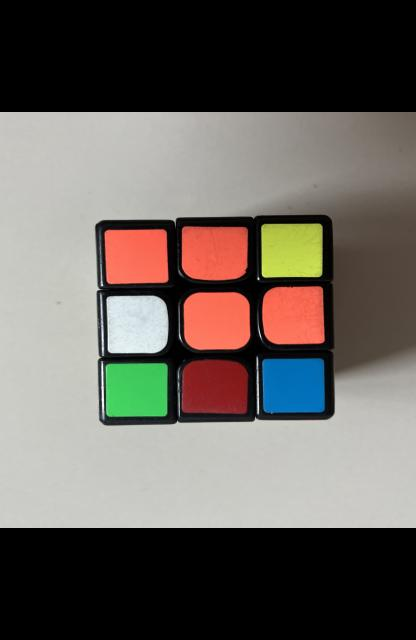Blue: (262, 358, 324, 413)
Green: (104, 363, 167, 416)
Orange: (183, 292, 249, 350), (260, 286, 324, 345), (180, 226, 247, 280), (103, 229, 168, 284)
Red: (180, 360, 247, 414)
White: (106, 295, 168, 354)
Yellow: (260, 224, 322, 278)
